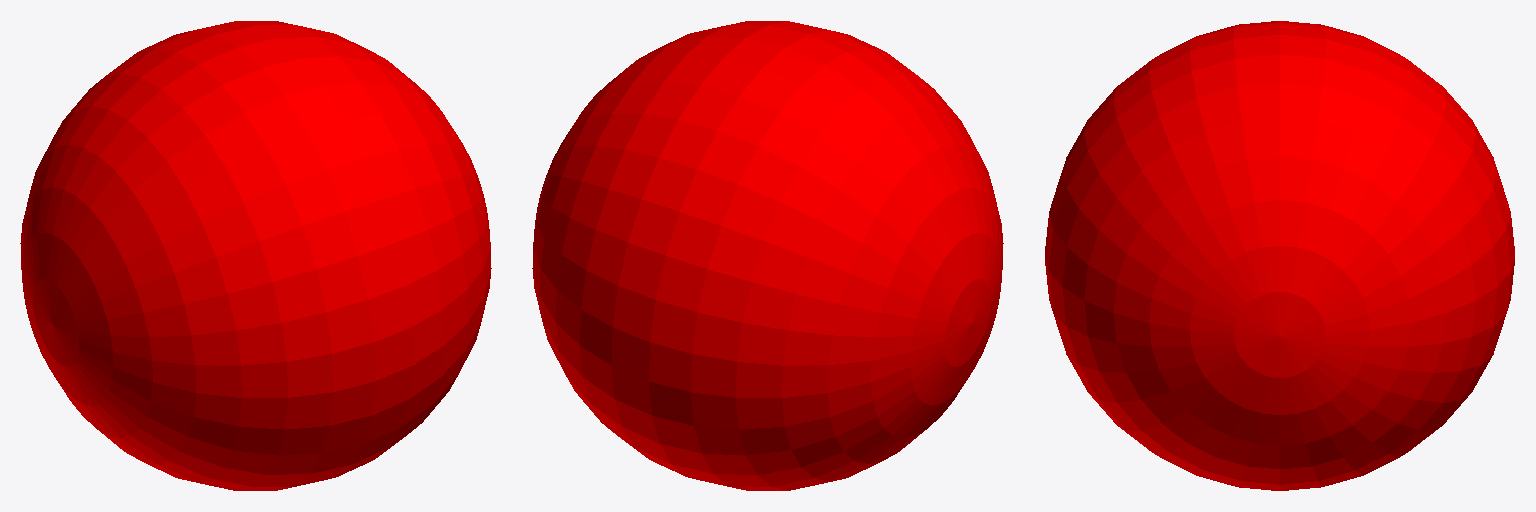
URDF robot description (piper):
<?xml version="1.0" encoding="utf-8"?>
<!-- This URDF was automatically created by SolidWorks to URDF Exporter! Originally created by [author] ([email redacted]) 
     Commit Version: 1.6.0-4-g7f85cfe  Build Version: 1.6.7995.38578
     For more information, please see http://wiki.ros.org/sw_urdf_exporter -->
<robot
  name="piper">
  <link
    name="base_link">
    <inertial>
      <origin xyz="-0.00473641164191482 2.56829134630247E-05 0.041451518036016" rpy="0 0 0" />
      <mass value="1.02" />
      <inertia ixx="0.00267433" ixy="-0.00000073" ixz="-0.00017389" iyy="0.00282612" iyz="0.0000004" izz="0.00089624" />
    </inertial>
    <visual>
      <origin
        xyz="0 0 0"
        rpy="0 0 0" />
      <geometry>
        <mesh
          filename="package://piper_description/meshes/base_link.STL" />
      </geometry>
      <material
        name="">
        <color
          rgba="0.792156862745098 0.819607843137255 0.933333333333333 1" />
      </material>
    </visual>
    <collision>
      <origin
        xyz="0 0 0"
        rpy="0 0 0" />
      <geometry>
        <mesh
          filename="package://piper_description/meshes/base_link.STL" />
      </geometry>
    </collision>
  </link>
  <link
    name="link1">
    <inertial>
      <origin xyz="0.000121504734057468 0.000104632162460536 -0.00438597309559853" rpy="0 0 0" />
      <mass value="0.71" />
      <inertia ixx="0.00048916" ixy="-0.00000036" ixz="-0.00000224" iyy="0.00040472" iyz="-0.00000242" izz="0.00043982" />
    </inertial>
    <visual>
      <origin
        xyz="0 0 0"
        rpy="0 0 0" />
      <geometry>
        <mesh
          filename="package://piper_description/meshes/link1.STL" />
      </geometry>
      <material
        name="">
        <color
          rgba="0.792156862745098 0.819607843137255 0.933333333333333 1" />
      </material>
    </visual>
    <collision>
      <origin
        xyz="0 0 0"
        rpy="0 0 0" />
      <geometry>
        <mesh
          filename="package://piper_description/meshes/link1.STL" />
      </geometry>
    </collision>
  </link>
  <joint
    name="joint1"
    type="revolute">
    <origin
      xyz="0 0 0.123"
      rpy="0 0 0" />
    <parent
      link="base_link" />
    <child
      link="link1" />
    <axis
      xyz="0 0 1" />
    <limit
      lower="-2.618"
      upper="2.168"
      effort="100"
      velocity="5" />
  </joint>
  <link
    name="link2">
    <inertial>
      <origin xyz="0.198666145229743 -0.010926924140076 0.00142121714502687" rpy="0 0 0" />
      <mass value="1.17" />
      <inertia ixx="0.00116918" ixy="-0.00180037" ixz="0.00025146" iyy="0.06785384" iyz="-0.00000455" izz="0.06774489" />
    </inertial>
    <visual>
      <origin
        xyz="0 0 0"
        rpy="0 0 0" />
      <geometry>
        <mesh
          filename="package://piper_description/meshes/link2.STL" />
      </geometry>
      <material
        name="">
        <color
          rgba="0.792156862745098 0.819607843137255 0.933333333333333 1" />
      </material>
    </visual>
    <collision>
      <origin
        xyz="0 0 0"
        rpy="0 0 0" />
      <geometry>
        <mesh
          filename="package://piper_description/meshes/link2.STL" />
      </geometry>
    </collision>
  </link>
  <joint
    name="joint2"
    type="revolute">
    <origin
      xyz="0 0 0"
      rpy="1.5708 -0.1359 -3.1416" />
      <!-- rpy="1.5708 -0.10095-0.03490659 -3.1416" /> -->
    <parent
      link="link1" />
    <child
      link="link2" />
    <axis
      xyz="0 0 1" />
    <limit
      lower="0"
      upper="3.14"
      effort="100"
      velocity="5" />
  </joint>
  <link
    name="link3">
    <inertial>
      <origin xyz="-0.0202737662122021 -0.133914995944595 -0.000458682652737356" rpy="0 0 0" />
      <mass value="0.5" />
      <inertia ixx="0.01361711" ixy="0.00165794" ixz="-0.00000048" iyy="0.00045024" iyz="-0.00000045" izz="0.01380322" />
    </inertial>
    <visual>
      <origin
        xyz="0 0 0"
        rpy="0 0 0" />
      <geometry>
        <mesh
          filename="package://piper_description/meshes/link3.STL" />
      </geometry>
      <material
        name="">
        <color
          rgba="0.792156862745098 0.819607843137255 0.933333333333333 1" />
      </material>
    </visual>
    <collision>
      <origin
        xyz="0 0 0"
        rpy="0 0 0" />
      <geometry>
        <mesh
          filename="package://piper_description/meshes/link3.STL" />
      </geometry>
    </collision>
  </link>
  <joint
    name="joint3"
    type="revolute">
    <origin
      xyz="0.28503 0 0"
      rpy="0 0 -1.7939" />
      <!-- rpy="0 0 -1.759-0.03490659" /> -->
    <parent
      link="link2" />
    <child
      link="link3" />
    <axis
      xyz="0 0 1" />
    <limit
      lower="-2.967"
      upper="0"
      effort="100"
      velocity="5" />
  </joint>
  <link
    name="link4">
    <inertial>
      <origin xyz="-9.66635791618542E-05 0.000876064475651083 -0.00496880904640868" rpy="0 0 0" />
      <mass value="0.38" />
      <inertia ixx="0.00018501" ixy="0.00000054" ixz="0.00000120" iyy="0.00018965" iyz="-0.00000841" izz="0.00015484" />
    </inertial>
    <visual>
      <origin
        xyz="0 0 0"
        rpy="0 0 0" />
      <geometry>
        <mesh
          filename="package://piper_description/meshes/link4.STL" />
      </geometry>
      <material
        name="">
        <color
          rgba="0.792156862745098 0.819607843137255 0.933333333333333 1" />
      </material>
    </visual>
    <collision>
      <origin
        xyz="0 0 0"
        rpy="0 0 0" />
      <geometry>
        <mesh
          filename="package://piper_description/meshes/link4.STL" />
      </geometry>
    </collision>
  </link>
  <joint
    name="joint4"
    type="revolute">
    <origin
      xyz="-0.021984 -0.25075 0"
      rpy="1.5708 0 0" />
    <parent
      link="link3" />
    <child
      link="link4" />
    <axis
      xyz="0 0 1" />
    <limit
      lower="-1.832"
      upper="1.832"
      effort="100"
      velocity="5" />
  </joint>
  <link
    name="link5">
    <inertial>
      <origin xyz="-4.10554118924211E-05 -0.0566486692356075 -0.0037205791677906" rpy="0 0 0" />
      <mass value="0.383" />
      <inertia ixx="0.00166169" ixy="0.00000006" ixz="-0.00000007" iyy="0.00018510" iyz="0.00001026" izz="0.00164321" />
    </inertial>
    <visual>
      <origin
        xyz="0 0 0"
        rpy="0 0 0" />
      <geometry>
        <mesh
          filename="package://piper_description/meshes/link5.STL" />
      </geometry>
      <material
        name="">
        <color
          rgba="0.792156862745098 0.819607843137255 0.933333333333333 1" />
      </material>
    </visual>
    <collision>
      <origin
        xyz="0 0 0"
        rpy="0 0 0" />
      <geometry>
        <mesh
          filename="package://piper_description/meshes/link5.STL" />
      </geometry>
    </collision>
  </link>
  <joint
    name="joint5"
    type="revolute">
    <origin
      xyz="0 0 0"
      rpy="-1.5708 0 0" />
    <parent
      link="link4" />
    <child
      link="link5" />
    <axis
      xyz="0 0 1" />
    <limit
      lower="-1.22"
      upper="1.22"
      effort="100"
      velocity="5" />
  </joint>
  <link
    name="link6">
    <inertial>
      <origin xyz="-8.82590762930069E-05 9.0598378529832E-06 -0.002" rpy="0 0 0" />
      <mass value="0.00699089613564366" />
      <inertia ixx="5.73015540542155E-07" ixy="-1.98305403089247E-22" ixz="-7.2791893904596E-23" iyy="5.73015540542155E-07" iyz="-3.4146026640245E-24" izz="1.06738869138926E-06" />
    </inertial>
    <visual>
      <origin
        xyz="0 0 0"
        rpy="0 0 0" />
      <geometry>
        <mesh
          filename="package://piper_description/meshes/link6.STL" />
      </geometry>
      <material
        name="">
        <color
          rgba="0.898039215686275 0.917647058823529 0.929411764705882 1" />
      </material>
    </visual>
    <collision>
      <origin
        xyz="0 0 0"
        rpy="0 0 0" />
      <geometry>
        <mesh
          filename="package://piper_description/meshes/link6.STL" />
      </geometry>
    </collision>
  </link>
  <joint
    name="joint6"
    type="revolute">
    <origin
      xyz="8.8259E-05 -0.091 0"
      rpy="1.5708 0 0" />
    <parent
      link="link5" />
    <child
      link="link6" />
    <axis
      xyz="0 0 1" />
    <limit
      lower="-3.14"
      upper="3.14"
      effort="100"
      velocity="3" />
  </joint>
  <link
    name="gripper_base">
    <inertial>
      <origin
        xyz="-0.000183807162235591 8.05033155577911E-05 0.0321436689908876"
        rpy="0 0 0" />
      <mass
        value="0.45" />
      <inertia
        ixx="0.00092934"
        ixy="0.00000034"
        ixz="-0.00000738"
        iyy="0.00071447"
        iyz="0.00000005"
        izz="0.00039442" />
    </inertial>
    <visual>
      <origin
        xyz="0 0 0"
        rpy="0 0 0" />
      <geometry>
        <mesh
          filename="package://piper_description/meshes/gripper_base.STL" />
      </geometry>
      <material
        name="">
        <color
          rgba="0.792156862745098 0.819607843137255 0.933333333333333 1" />
      </material>
    </visual>
    <collision>
      <origin
        xyz="0 0 0"
        rpy="0 0 0" />
      <geometry>
        <mesh
          filename="package://piper_description/meshes/gripper_base.STL" />
      </geometry>
    </collision>
  </link> 
  <joint
    name="joint6_to_gripper_base"
    type="fixed">
    <origin
      xyz="0 0 0"
      rpy="0 0 0" />
    <parent
      link="link6" />
    <child
      link="gripper_base" />
  </joint>
  <link
    name="grasp_link">
    <inertial>
      <origin
        xyz="-0.0 8.05033155577911E-05 0.0"
        rpy="0 0 0" />
      <mass
        value="0.0" />
      <inertia
        ixx="0.00092934"
        ixy="0.00000034"
        ixz="-0.00000738"
        iyy="0.00071447"
        iyz="0.00000005"
        izz="0.00039442" />
    </inertial>
    <visual>
      <origin xyz="0 0 0" rpy="0 0 0" />
      <geometry>
        <sphere radius="0.01" />
      </geometry>
      <material name="red">
      <color rgba="1 0 0 1" />
      </material>
    </visual>
    <collision>
      <origin xyz="0 0 0" rpy="0 0 0" />
      <geometry>
        <sphere radius="0.01" />
      </geometry>
    </collision>
  </link>
  <joint name="gripperbase_to_grasp_link" type="fixed">
    <origin xyz="0.0 0.0 0.10" rpy="0 0 0" />
    <parent link="gripper_base" />
    <child link="grasp_link" />
    </joint>
  <link
    name="link7">
    <inertial>
      <origin
        xyz="0.00065123185041968 -0.0491929869131989 0.00972258769184025"
        rpy="0 0 0" />
      <mass
        value="0.025" />
      <inertia
        ixx="0.00007371"
        ixy="-0.00000113"
        ixz="0.00000021"
        iyy="-0.00000113"
        iyz="-0.00001372"
        izz="0.0000747" />
    </inertial>
    <visual>
      <origin
        xyz="0 0 0"
        rpy="0 0 0" />
      <geometry>
        <mesh
          filename="package://piper_description/meshes/link7.STL" />
      </geometry>
      <material
        name="">
        <color
          rgba="0.792156862745098 0.819607843137255 0.933333333333333 1" />
      </material>
    </visual>
    <collision>
      <origin
        xyz="0 0 0"
        rpy="0 0 0" />
      <geometry>
        <mesh
          filename="package://piper_description/meshes/link7.STL" />
      </geometry>
    </collision>
  </link>
  <joint
    name="joint7"
    type="prismatic">
    <origin
      xyz="0 0 0.1358"
      rpy="1.5708 0 0" />
    <parent
      link="gripper_base" />
    <child
      link="link7" />
    <axis
      xyz="0 0 1" />
    <limit
      lower="0"
      upper="0.035"
      effort="10"
      velocity="1" />
  </joint>
  <link
    name="link8">
    <inertial>
      <origin
        xyz="0.000651231850419722 -0.0491929869131991 0.00972258769184024"
        rpy="0 0 0" />
      <mass
        value="0.025" />
      <inertia
        ixx="0.00007371"
        ixy="-0.00000113"
        ixz="0.00000021"
        iyy="-0.00000113"
        iyz="-0.00001372"
        izz="0.0000747" />
    </inertial>
    <visual>
      <origin
        xyz="0 0 0"
        rpy="0 0 0" />
      <geometry>
        <mesh
          filename="package://piper_description/meshes/link8.STL" />
      </geometry>
      <material
        name="">
        <color
          rgba="0.792156862745098 0.819607843137255 0.933333333333333 1" />
      </material>
    </visual>
    <collision>
      <origin
        xyz="0 0 0"
        rpy="0 0 0" />
      <geometry>
        <mesh
          filename="package://piper_description/meshes/link8.STL" />
      </geometry>
    </collision>
  </link>
  <joint
    name="joint8"
    type="prismatic">
    <origin
      xyz="0 0 0.1358"
      rpy="1.5708 0 -3.1416" />
    <parent
      link="gripper_base" />
    <child
      link="link8" />
    <axis
      xyz="0 0 -1" />
    <limit
      lower="-0.035"
      upper="0"
      effort="10"
      velocity="1" />
  </joint>
</robot>

--- Facts derived from the render (not from the file) ---
Views: 3 orthographic renders of the robot side by side, from view 1: azimuth 30°, elevation 25°; view 2: azimuth 150°, elevation 25°; view 3: azimuth 270°, elevation 25°.
Model piper with 11 links and 10 joints (6 revolute, 2 prismatic, 2 fixed), rooted at base_link, posed every joint at zero.
Links seen in each view (by area): view 1: grasp_link; view 2: grasp_link; view 3: grasp_link.
Boxes of the visible links, left/top/right/bottom form: grasp_link: left=20, top=21, right=491, bottom=490; grasp_link: left=532, top=21, right=1003, bottom=490; grasp_link: left=1045, top=21, right=1514, bottom=490.
Bounding box of the posed robot: 0.0199 × 0.02 × 0.0199 m (x, y, z).
0 mesh visuals loaded from 10 distinct referenced files (none loaded); not drawn: 10 (reference not matched to a file when rendering).